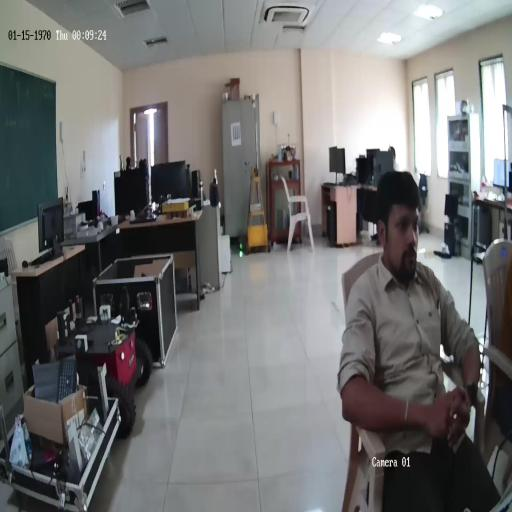laser: (239, 250, 243, 258)
